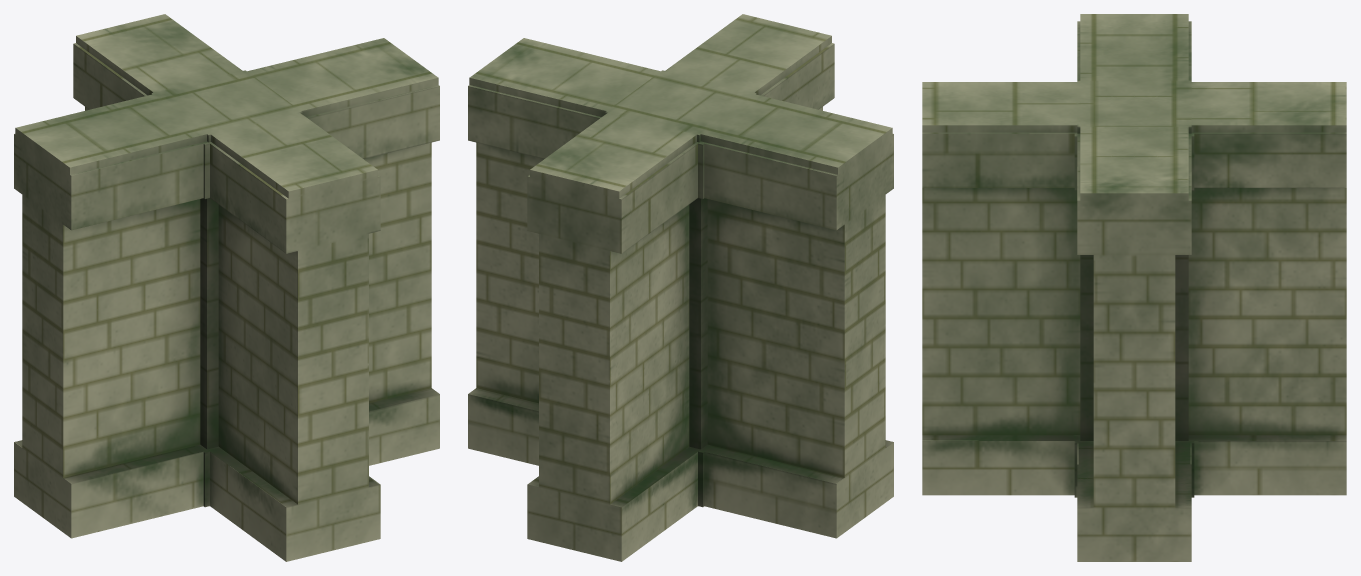
Rendered from Intersection Wall.fbx.
3 views of the same model, side by side, from view 1: azimuth 30°, elevation 25°; view 2: azimuth 150°, elevation 25°; view 3: azimuth 270°, elevation 25° (orthographic).
Parts seen in each view (by area): view 1: Intersection Wall; view 2: Intersection Wall; view 3: Intersection Wall.
Part boxes in pixels (<box>): Intersection Wall: <box>14,14,439,561</box>; Intersection Wall: <box>468,14,893,561</box>; Intersection Wall: <box>922,14,1346,561</box>.
Bounding box in the file's own units: 533 × 511 × 533.
Materials: 1 (1 with a texture image).
